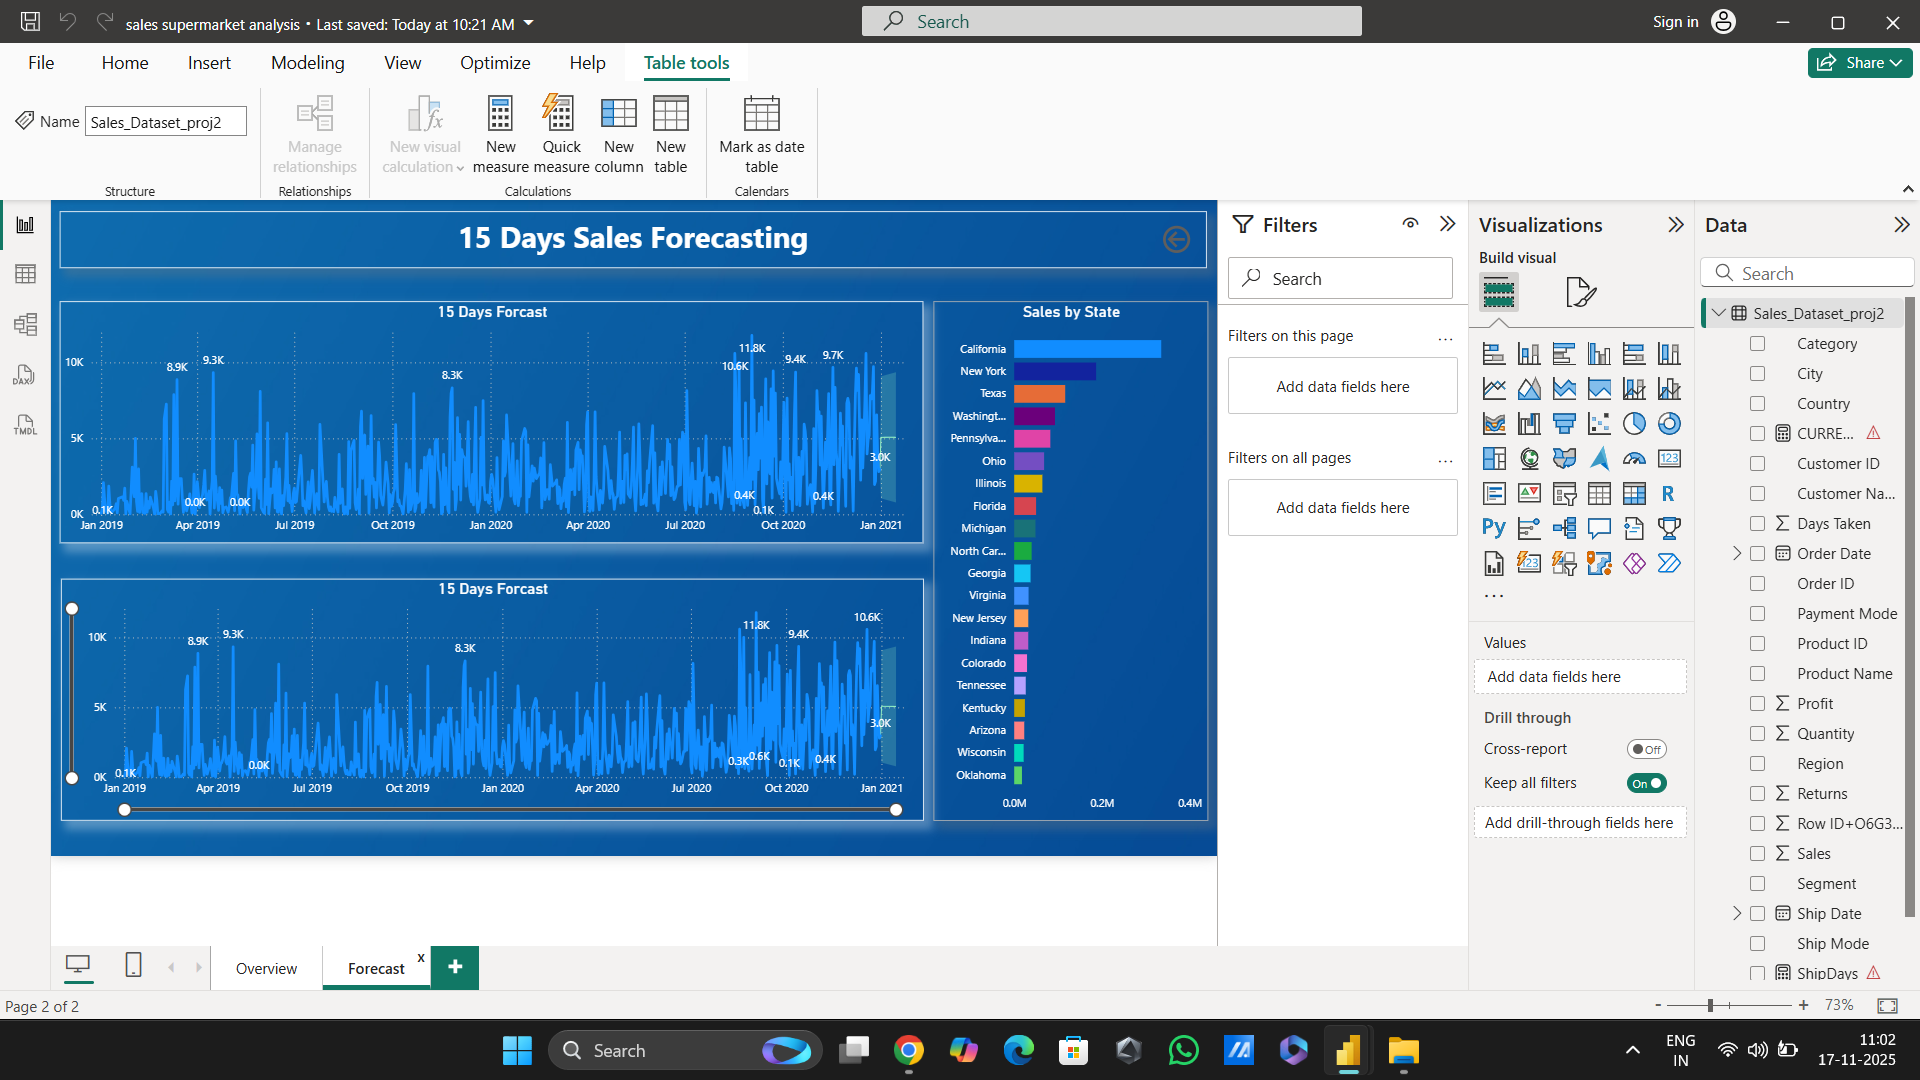

The dashboard page shown, as its layout file describes it:
{"tool":"powerbi","page":{"name":"Forecast","canvas":[1280,720],"ordinal":1},"visuals":[{"type":"textbox","box":[9.7,12.1,1259.5,62.7],"z":0},{"type":"lineChart","title":"15 Days Forcast","fields":{"Y":["Sum(Sales_Dataset_proj2.Sales)"],"Category":["Sales_Dataset_proj2.Order Date"]},"box":[9.7,111,948.3,265.4],"z":1000},{"type":"lineChart","title":"15 Days Forcast","fields":{"Y":["Sum(Sales_Dataset_proj2.Sales)"],"Category":["Sales_Dataset_proj2.Order Date"]},"box":[10.9,416.2,947.1,265.4],"z":2000},{"type":"barChart","title":" Sales by State ","fields":{"Category":["Sales_Dataset_proj2.State"],"Y":["Sum(Sales_Dataset_proj2.Sales)"],"Series":["Sales_Dataset_proj2.State"]},"box":[968.8,111,301.6,570.6],"z":3000},{"type":"actionButton","box":[1215.8,23.3,43.9,39.8],"z":4000}]}

Visuals, with their boxes on the page's 1280x720 design canvas (x1, y1, x2, y2). These are canvas units, not pixel positions in the 1920x1080 screenshot, which may show the page scaled, cropped or inside an application window:
textbox: x1=10, y1=12, x2=1269, y2=75
"15 Days Forcast" lineChart: x1=10, y1=111, x2=958, y2=376
"15 Days Forcast" lineChart: x1=11, y1=416, x2=958, y2=682
" Sales by State " barChart: x1=969, y1=111, x2=1270, y2=682
actionButton: x1=1216, y1=23, x2=1260, y2=63
